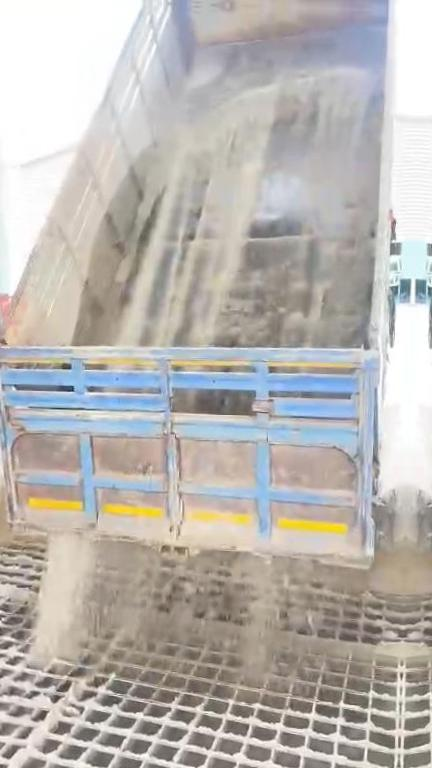sand: (35, 488, 408, 674), (113, 90, 276, 345), (254, 69, 367, 134), (0, 402, 46, 548), (14, 681, 83, 768), (284, 632, 403, 663), (191, 55, 221, 87), (0, 575, 31, 600)
